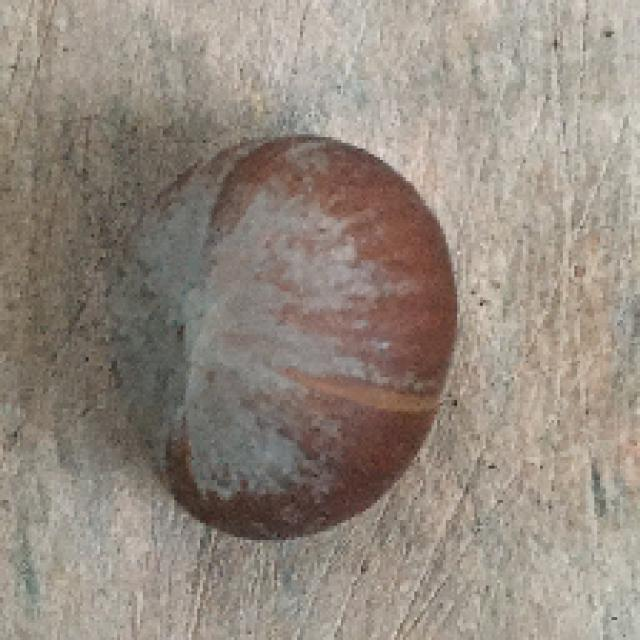qualityHazelnut: (103, 130, 458, 540)
